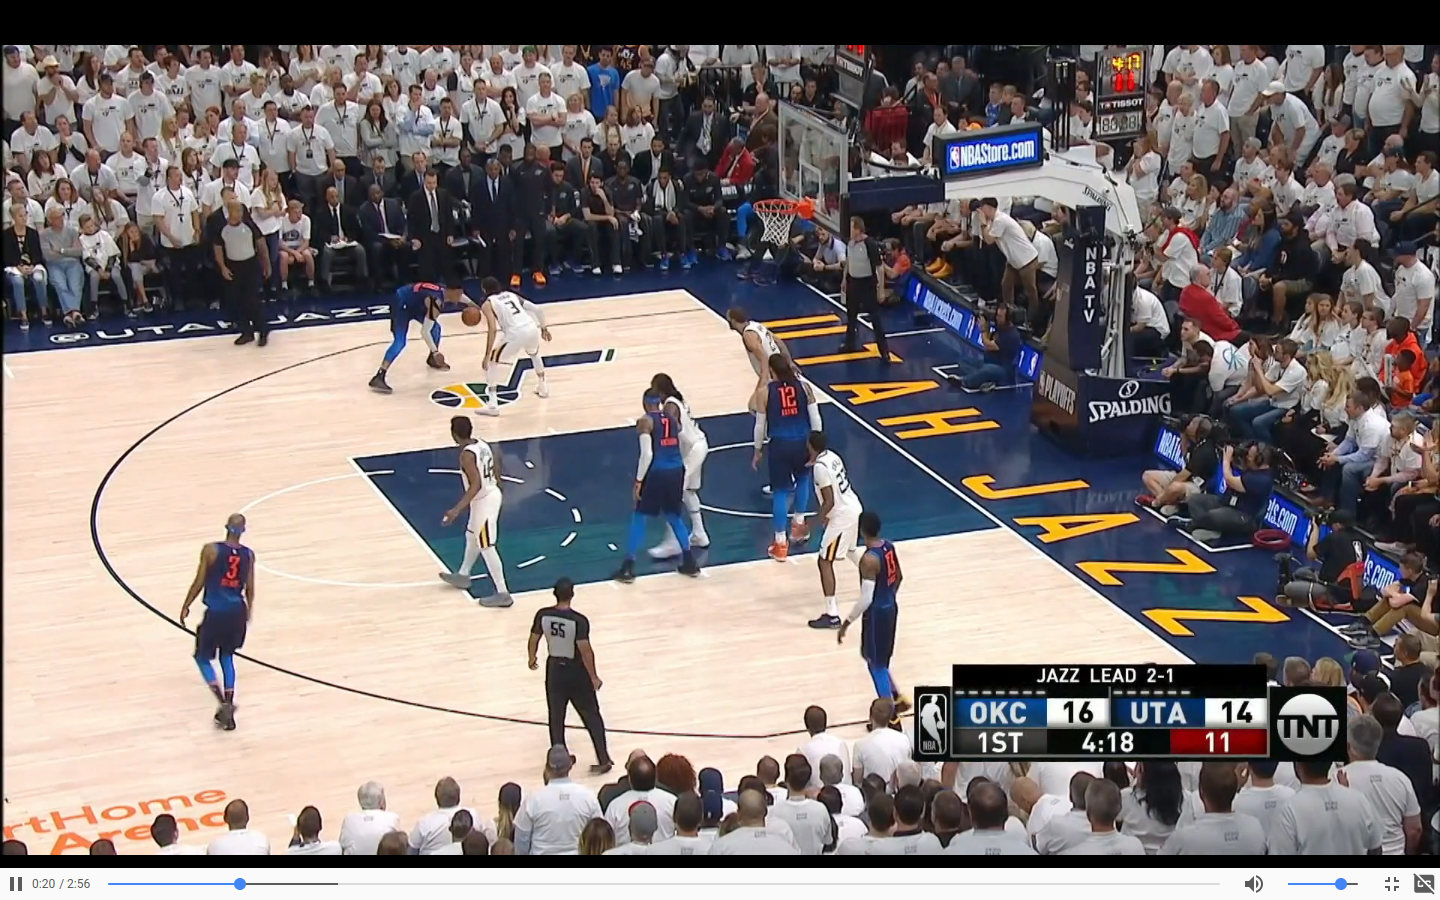basketball: (462, 303, 488, 329)
basketball player: (176, 505, 255, 737), (841, 506, 910, 714), (436, 414, 508, 608), (753, 356, 818, 562), (615, 399, 684, 580), (804, 429, 864, 629), (364, 276, 462, 389), (482, 272, 556, 414), (681, 383, 724, 559), (715, 305, 804, 359)
referee: (513, 580, 618, 771), (824, 212, 899, 365), (213, 200, 279, 352)
